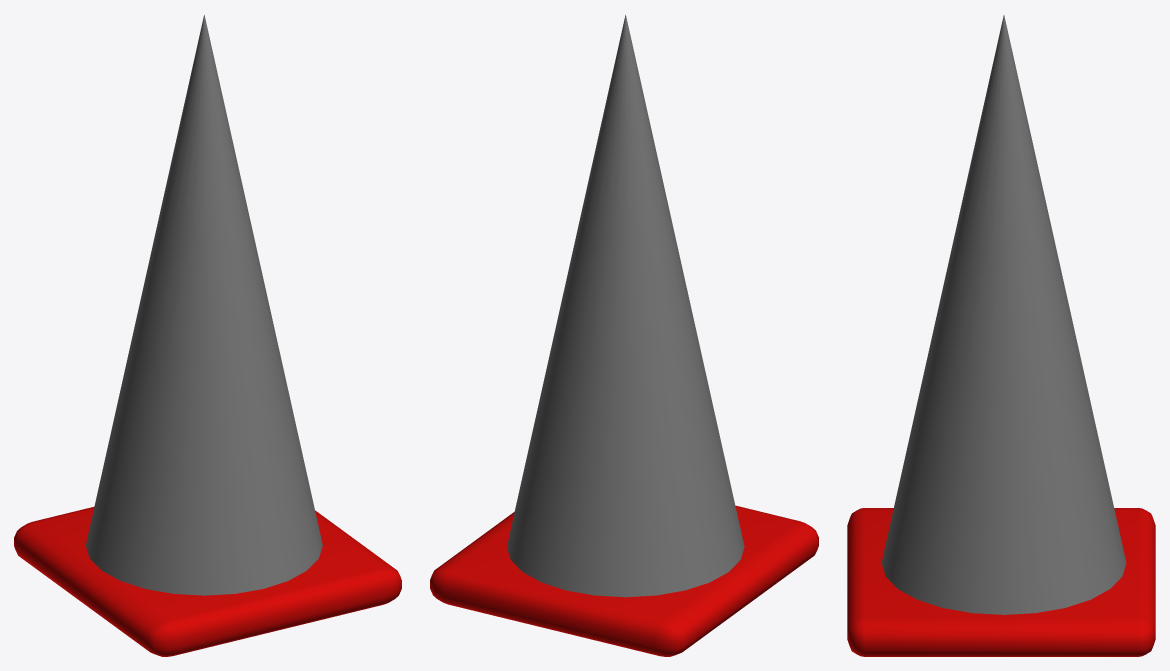
The picture shows the model from 3 angles, left to right: view 1: azimuth 30°, elevation 25°; view 2: azimuth 150°, elevation 25°; view 3: azimuth 270°, elevation 25°; orthographic projection. The views are drawn at different scales.
Visible parts, largest first — view 1: Cone001, ChamferBox001; view 2: Cone001, ChamferBox001; view 3: Cone001, ChamferBox001.
Boxes of the visible parts, x1,y1,x2,y2 form: Cone001: (86, 15, 322, 595); ChamferBox001: (14, 507, 401, 656); Cone001: (507, 15, 744, 597); ChamferBox001: (430, 505, 818, 656); Cone001: (881, 15, 1126, 614); ChamferBox001: (847, 508, 1155, 656).
Size of the model in its own units: 0.3692 by 0.7905 by 0.3772.
